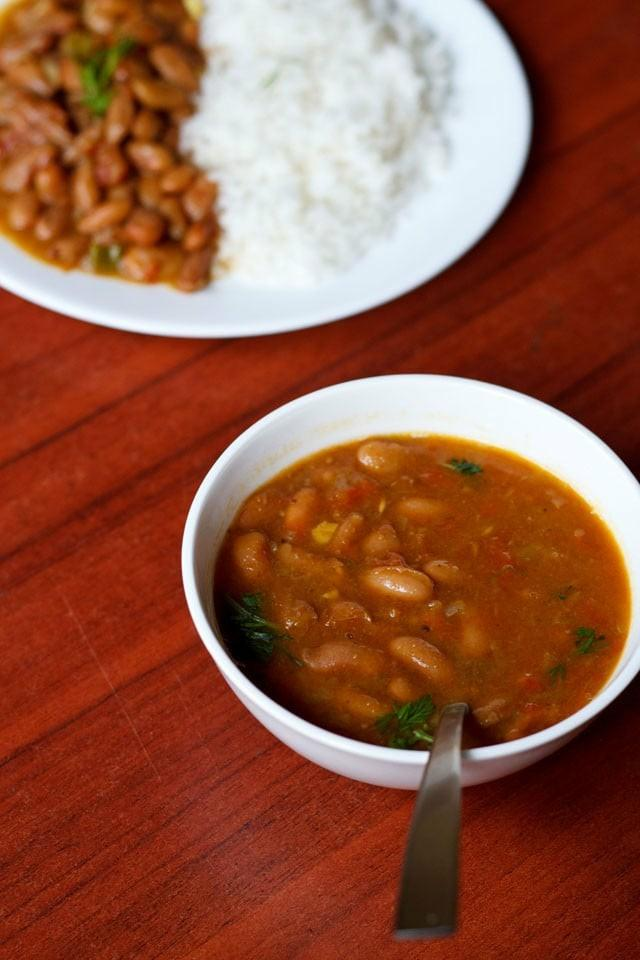RajmaCurry: (213, 434, 630, 746), (0, 0, 221, 292)
WhiteRice: (184, 0, 462, 286)
